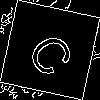C: (25, 25, 84, 81)
